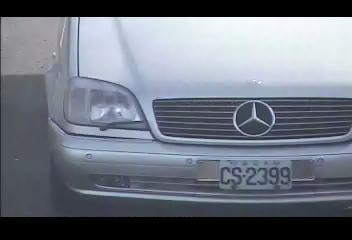plate: (219, 159, 293, 191)
